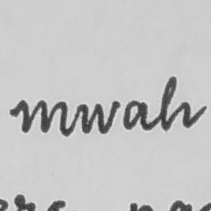a: (122, 97, 151, 133)
h: (157, 74, 193, 134)
m: (17, 97, 72, 138)
w: (77, 96, 121, 138)
